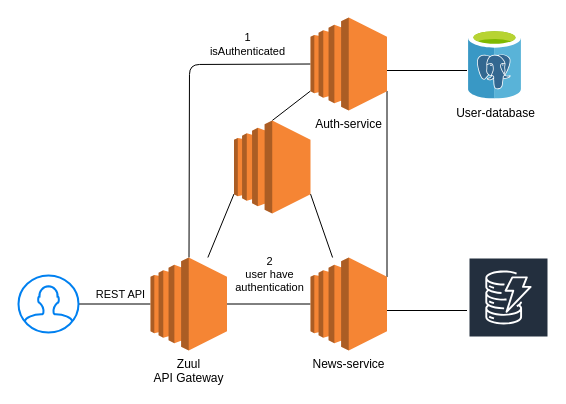
This 566x404 diagram has some shape labels left out. Here are the shapes that lost their labels. From the top down, the centre of each, then its label:
At (x=271, y=167): "Configuration-service".
At (x=508, y=312): "News-database".
